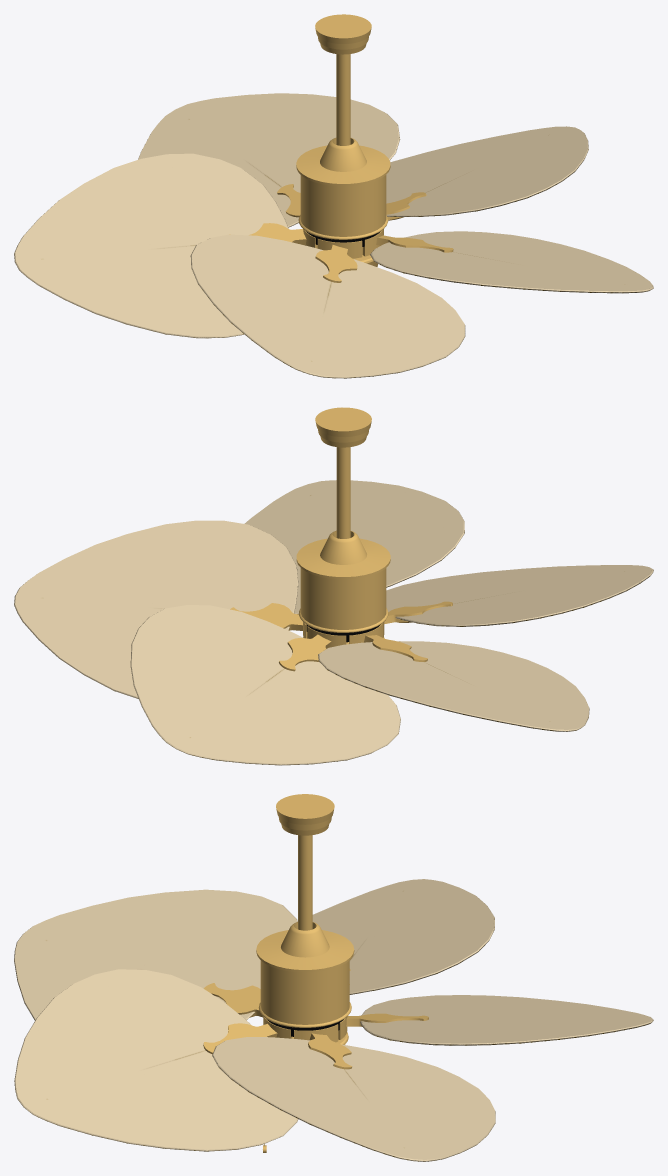
File: model_cealing fan.glb
The picture shows the model from 3 angles, top to bottom: view 1: azimuth 30°, elevation 25°; view 2: azimuth 150°, elevation 25°; view 3: azimuth 270°, elevation 25°; orthographic projection. The views are drawn at different scales.
Visible parts, largest first — view 1: Cylinder, Cylinder.001, Cylinder.004, Cylinder.002; view 2: Cylinder, Cylinder.001, Cylinder.004, Cylinder.002; view 3: Cylinder, Cylinder.001, Cylinder.004, Cylinder.002.
Boxes of the visible parts, <box> form: Cylinder: <box>14,93,653,378</box>; Cylinder.001: <box>296,138,390,246</box>; Cylinder.004: <box>315,14,371,54</box>; Cylinder.002: <box>336,54,350,145</box>; Cylinder: <box>14,480,653,765</box>; Cylinder.001: <box>296,530,390,642</box>; Cylinder.004: <box>315,407,371,447</box>; Cylinder.002: <box>336,447,350,538</box>; Cylinder: <box>14,879,653,1161</box>; Cylinder.001: <box>256,922,354,1036</box>; Cylinder.004: <box>276,794,334,835</box>; Cylinder.002: <box>298,835,312,930</box>.
Bounding box in the file's own units: 6.28 × 3.59 × 6.02.
3 materials, 1 textured.
